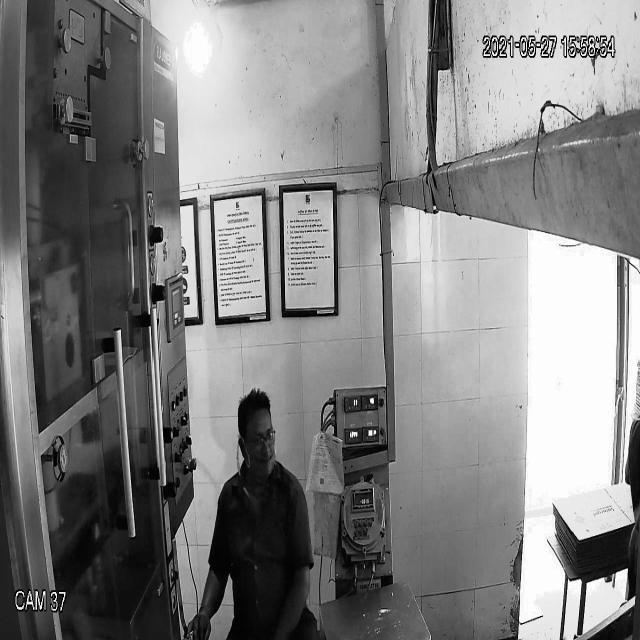glasses: (236, 422, 283, 455)
